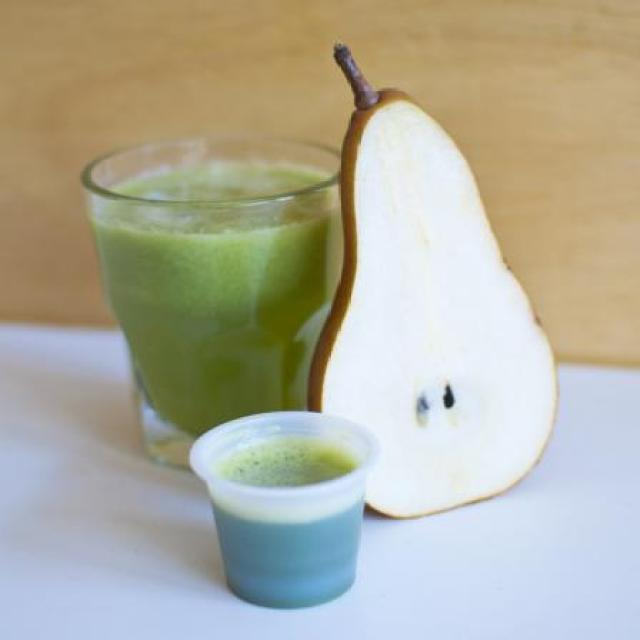Pear: (307, 86, 559, 518)
